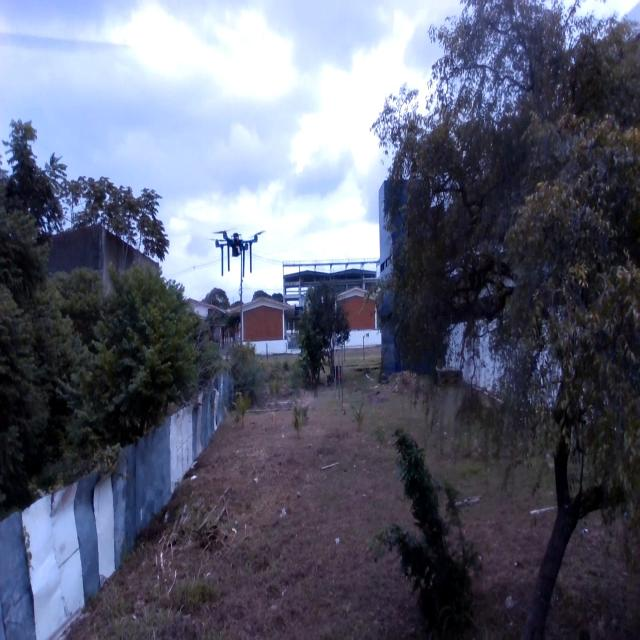-uav-: (201, 220, 269, 282)
